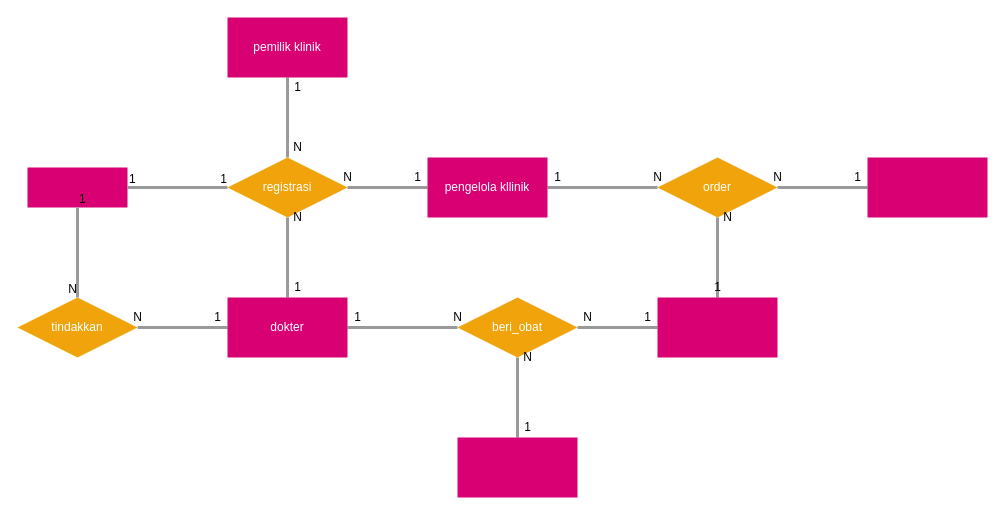
The diagram is 1004 pixels wide and 514 high, and some of its shapes have lost their labels. Each missing label, with the centre of its shape:
apoteker: pixel 517 467
obat: pixel 717 327
pasien: pixel 77 187
suplier: pixel 927 187
